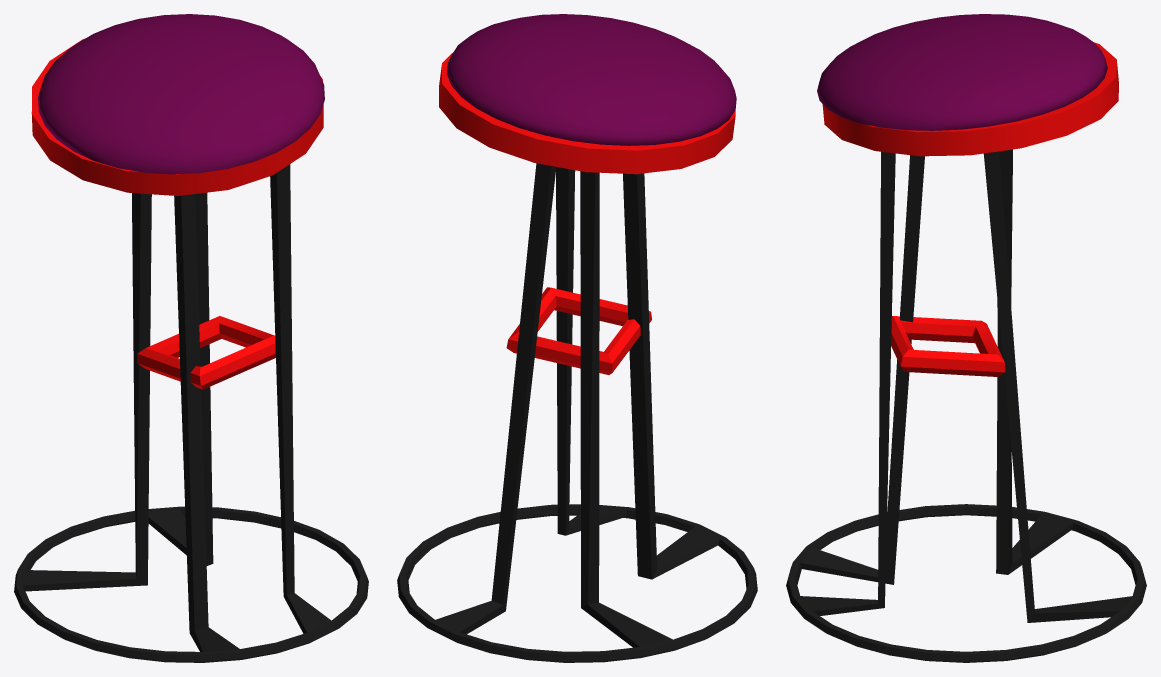
File: Arcade_Chair.FBX
3 renders of one model, left to right at view 1: azimuth 30°, elevation 25°; view 2: azimuth 150°, elevation 25°; view 3: azimuth 270°, elevation 25°, orthographic.
Parts seen in each view (by area): view 1: Arcade_Chair; view 2: Arcade_Chair; view 3: Arcade_Chair.
Part boxes in pixels (x1,y1,x2,y2): Arcade_Chair: (14, 14, 368, 662); Arcade_Chair: (397, 14, 757, 662); Arcade_Chair: (786, 14, 1146, 662).
Size of the model in its own units: 6.71 by 11.4 by 6.71.
